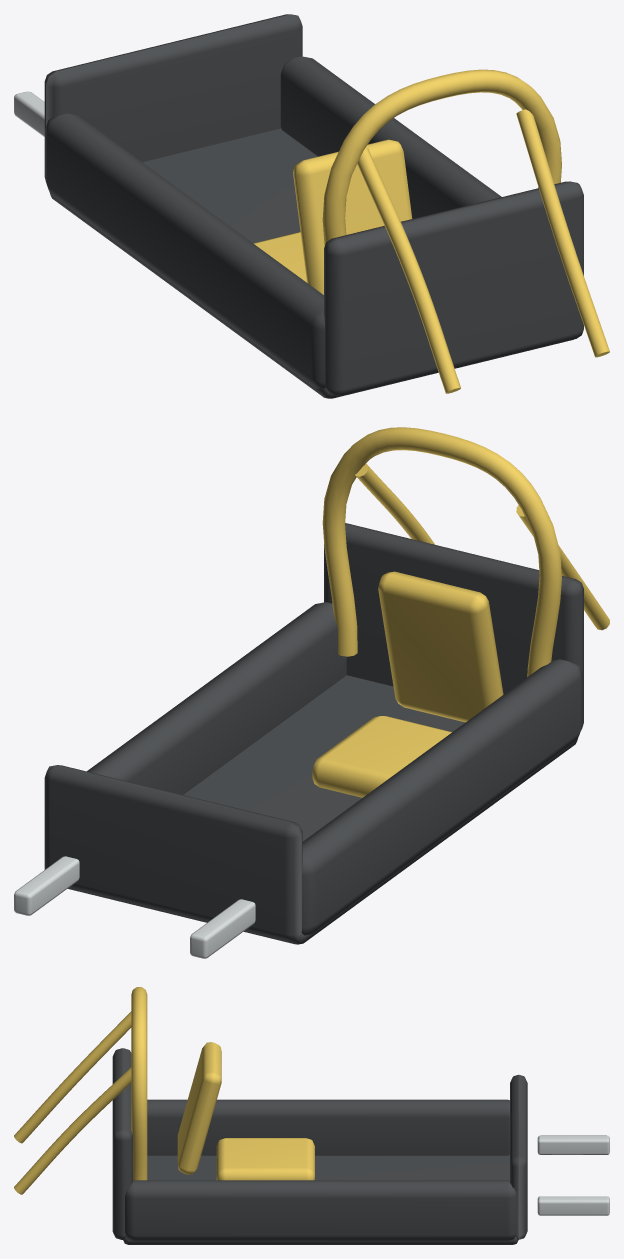
Rendered from chassis_carbon.fbx.
3 renders of one model, top to bottom at view 1: azimuth 30°, elevation 25°; view 2: azimuth 150°, elevation 25°; view 3: azimuth 270°, elevation 25°, orthographic. The views are drawn at different scales.
Visible parts, largest first — view 1: chassis_carbon; view 2: chassis_carbon; view 3: chassis_carbon.
Part boxes in pixels (x1,y1,x2,y2): chassis_carbon: [14, 14, 609, 398]; chassis_carbon: [14, 427, 609, 958]; chassis_carbon: [14, 987, 609, 1244].
Bounding box in the file's own units: 76 × 77.16 × 206.
